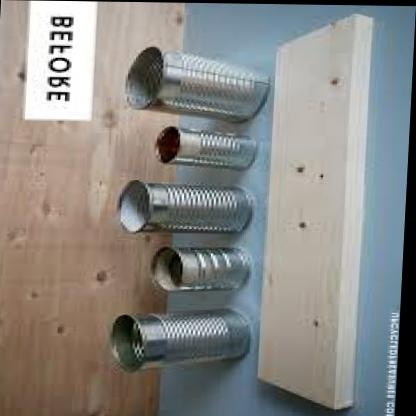trash: (126, 47, 269, 120), (112, 309, 249, 370), (119, 180, 253, 232), (152, 247, 249, 290), (156, 127, 255, 168)
